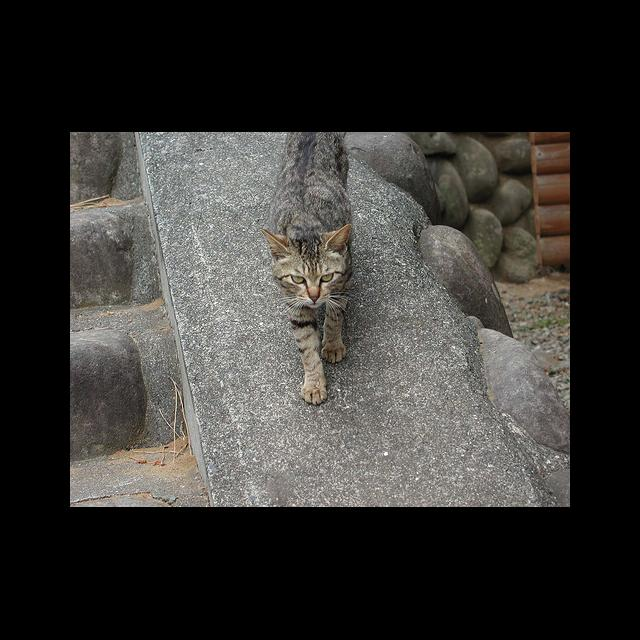animals: (263, 224, 348, 302)
